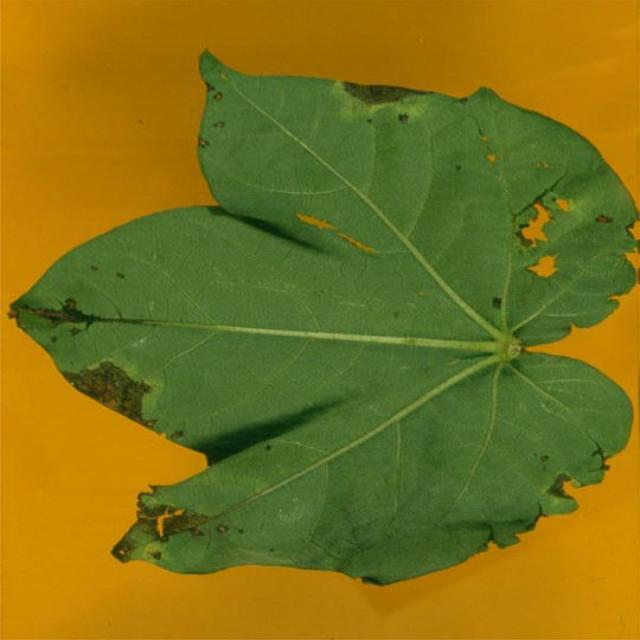Bacterial Blight: (9, 229, 466, 543)
